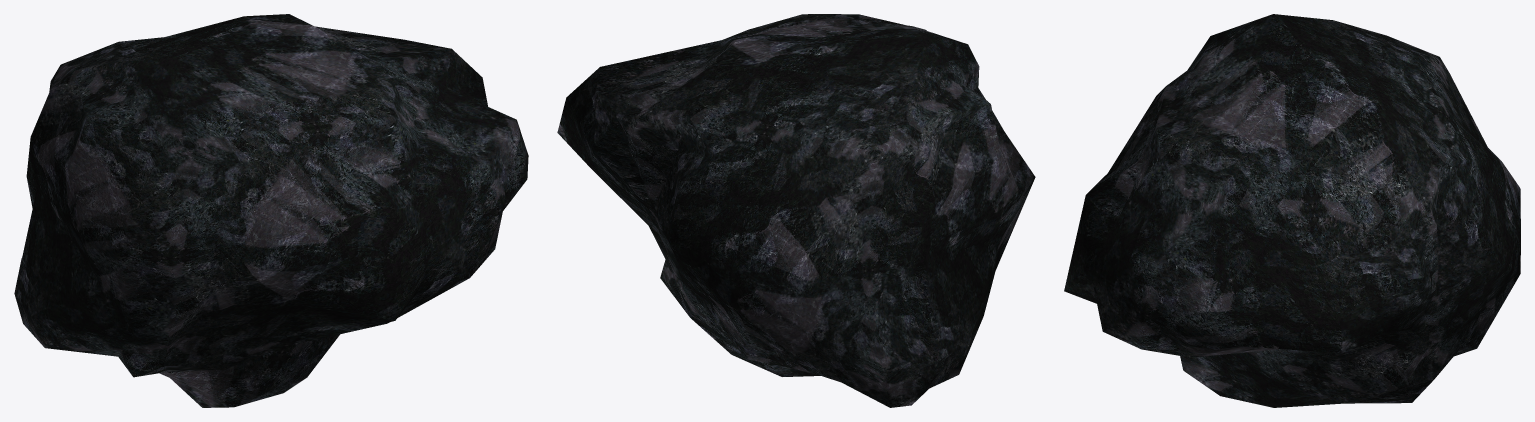
Rendered from asteroid_obsidian_medium_s01_l1.fbx.
The picture shows the model from 3 angles, left to right: view 1: azimuth 30°, elevation 25°; view 2: azimuth 150°, elevation 25°; view 3: azimuth 270°, elevation 25°; orthographic projection. The views are drawn at different scales.
Parts seen in each view (by area): view 1: mesh_node; view 2: mesh_node; view 3: mesh_node.
Boxes of the visible parts, box(x1,y1,x2,y2) form: mesh_node: box(14, 14, 528, 407); mesh_node: box(557, 14, 1035, 407); mesh_node: box(1064, 14, 1520, 407).
Bounding box in the file's own units: 86.72 × 66.86 × 75.95.
